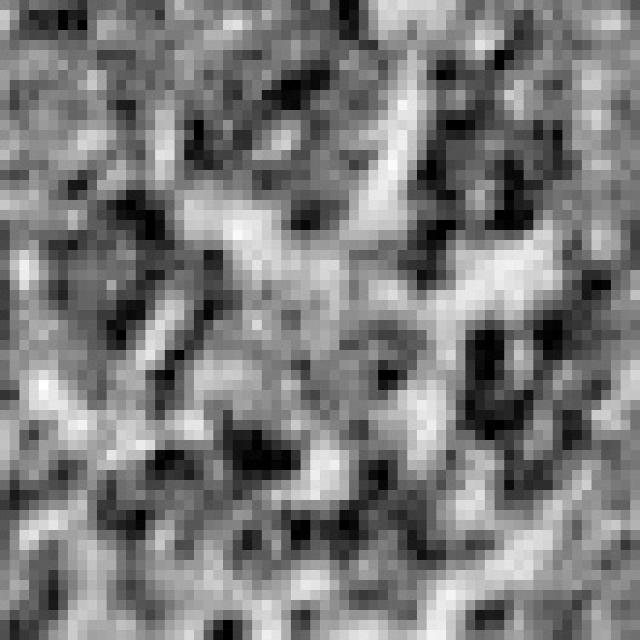inner: (242, 242, 429, 450)
lobe: (397, 49, 583, 290), (188, 20, 390, 240), (33, 194, 241, 403), (450, 281, 627, 505), (268, 453, 461, 631), (84, 408, 316, 544)
outer: (0, 0, 640, 640)
